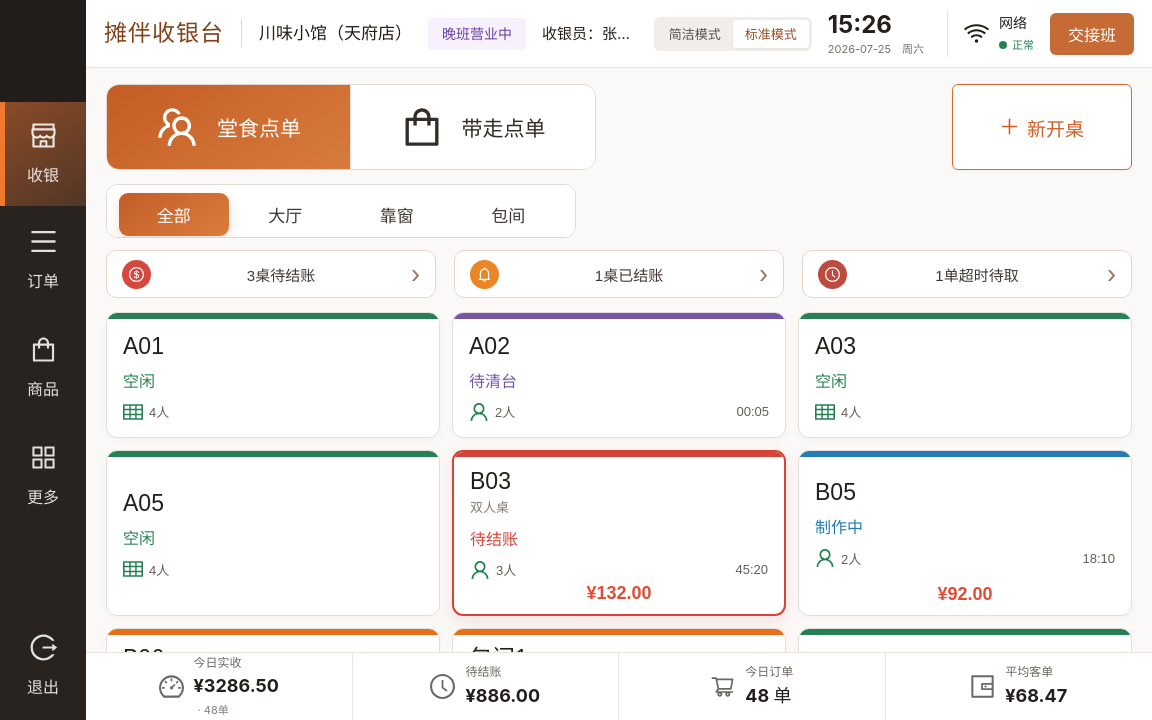
Test case: cashier operations › filters the table board from operational alerts and never invents overdue counts
Expected: the text "B03" is shown, 470,468 -> 511,494
Expected: the text with class "cashier-table-name" reads "双人桌", 470,500 -> 509,515
Step 1. Click the button "3桌待结账 ›" → (271, 274), box 106,250 -> 436,298
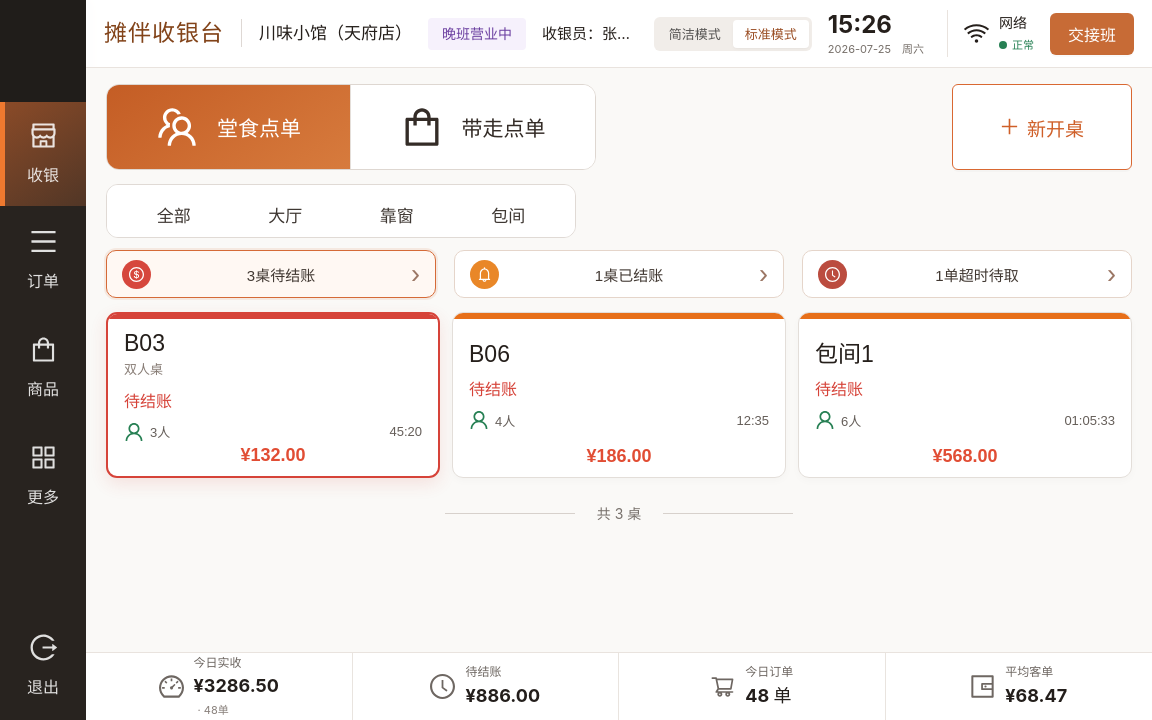
Expected: the button "B03 双人桌 待结账 3人 45:20 ¥132.00" is shown, 106,312 -> 440,478
Expected: the button "A01" is gone
